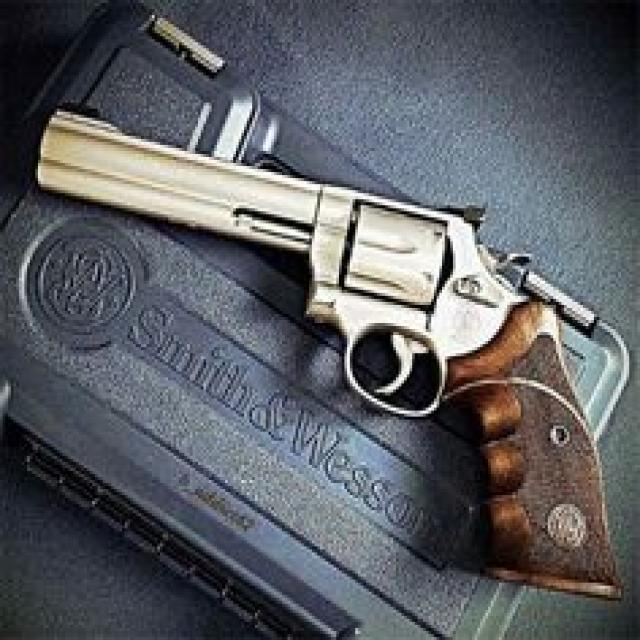revolver: (21, 51, 640, 623)
